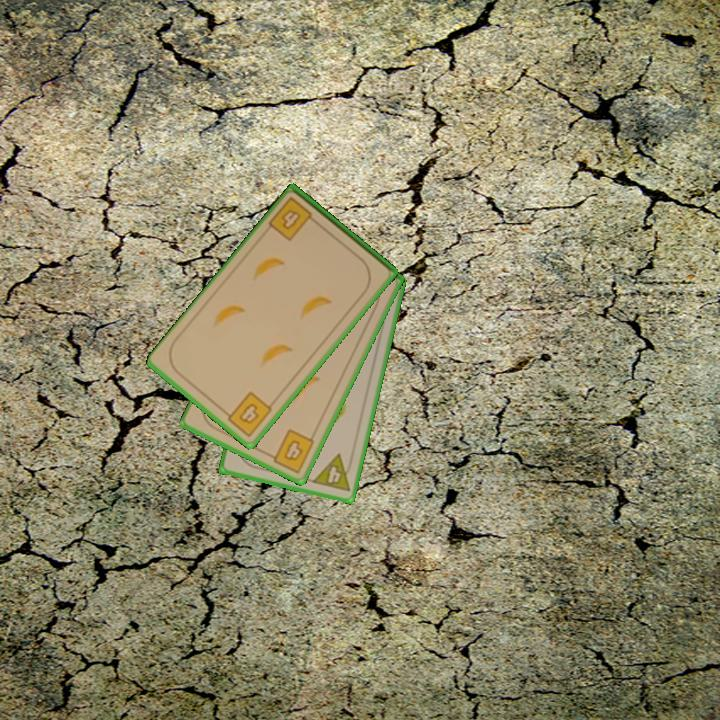4b: (220, 388, 275, 440), (265, 193, 321, 244), (264, 426, 317, 476)
4p: (308, 451, 356, 495)
